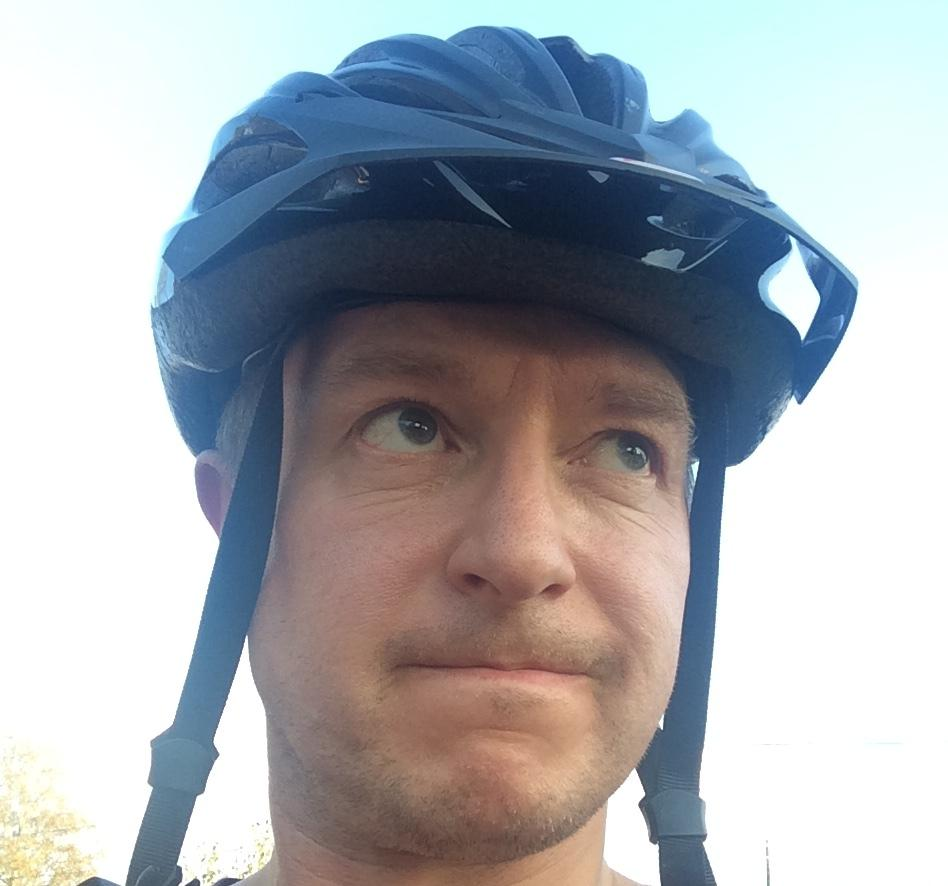helmet: (125, 20, 948, 886)
